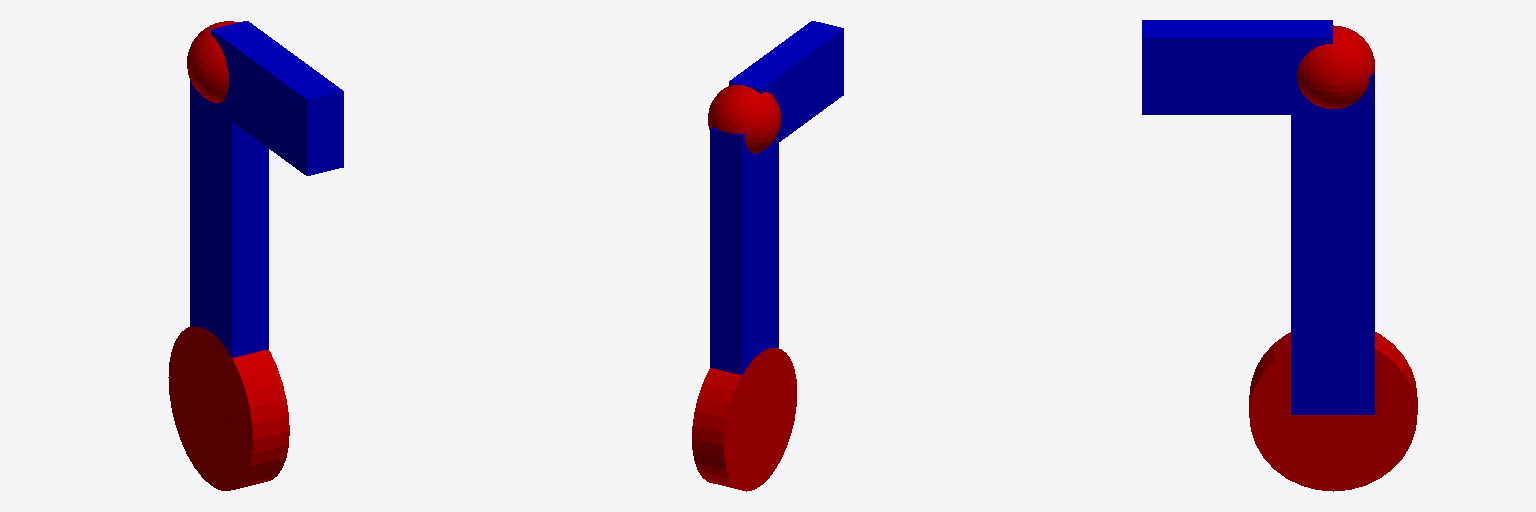
URDF robot description (TwoLinkStruct640138002):
<?xml version="1.0"?>
<robot  name="TwoLinkStruct640138002" >
 <material  name="blue" >
  <color  rgba="0 0 0.8 1.0" />
 </material>
 <material  name="red" >
  <color  rgba="0.8 0 0 1.0" />
 </material>
 <link  name="base_link" >
  <visual >
   <origin  rpy="0 1.5707 0"  xyz="0 0 0" />
   <material  name="red" />
   <geometry >
    <cylinder  length="0.05"  radius="0.1" />
   </geometry>
  </visual>
 </link>
 <joint  type="revolute"  name="joint1" >
  <parent  link="base_link" />
  <child  link="link1" />
  <origin  xyz="0 0 0"  rpy="0 0 0" />
  <axis  xyz="1 0 0" />
 </joint>
 <link  name="link1" >
  <inertial >
   <origin  rpy="0 0 0"  xyz="0 0 0.22218380172906807" />
   <mass  value="0.9672854199965676" />
   <inertia  ixy="0.0"  iyy="0.00040303559166523655"  izz="0.016118406300600983"  ixz="0.0"  ixx="0.016118406300600983"  iyz="0.0" />
  </inertial>
  <visual >
   <origin  rpy="0 0 0"  xyz="0 0 0.22218380172906807" />
   <material  name="blue" />
   <geometry >
    <box  size="0.05 0.1 0.44436760345813614" />
   </geometry>
  </visual>
 </link>
 <joint  type="fixed"  name="joint-joint-1" >
  <parent  link="link1" />
  <child  link="joint-link-1" />
  <origin  xyz="0 0 0.44436760345813614"  rpy="1.5707 0 0" />
  <axis  xyz="1 0 0" />
 </joint>
 <link  name="joint-link-1" >
  <inertial >
   <origin  rpy="0 0 0"  xyz="0 0 0" />
   <mass  value="1.9543338447868708" />
   <inertia  ixy="0"  iyy="0"  izz="0"  ixz="0"  ixx="0"  iyz="0" />
  </inertial>
  <visual >
   <origin  rpy="0 0 0"  xyz="0 0 0" />
   <material  name="red" />
   <geometry >
    <sphere  radius="0.05" />
   </geometry>
  </visual>
 </link>
 <joint  type="revolute"  name="joint2" >
  <parent  link="link1" />
  <child  link="link2" />
  <origin  xyz="0 0 0.44436760345813614"  rpy="1.5707 0 0" />
  <axis  xyz="1 0 0" />
 </joint>
 <link  name="link2" >
  <inertial >
   <origin  rpy="0 0 0"  xyz="0 0 0.11343772173134198" />
   <mass  value="0.9996936147559894" />
   <inertia  ixy="0.0"  iyy="0.00040303559166523655"  izz="0.00435056502181339"  ixz="0.0"  ixx="0.00435056502181339"  iyz="0.0" />
  </inertial>
  <visual >
   <origin  rpy="0 0 0"  xyz="0 0 0.11343772173134198" />
   <material  name="blue" />
   <geometry >
    <box  size="0.05 0.1 0.22687544346268396" />
   </geometry>
  </visual>
 </link>
 <joint  type="fixed"  name="eef_joint" >
  <parent  link="link2" />
  <child  link="eef" />
  <origin  xyz="0 0 0.22687544346268396"  rpy="0 0 0" />
 </joint>
 <link  name="eef" >
  <inertial >
   <origin  rpy="0 0 0"  xyz="0 0 0" />
   <mass  value="1" />
   <inertia  ixy="0"  iyy="0"  izz="0"  ixz="0"  ixx="0"  iyz="0" />
  </inertial>
 </link>
 <transmission  name="motor1" >
  <type  xmltext="SimpleTransmission" >
   SimpleTransmission
  </type>
  <actuator  name="motor1" >
   <mechanicalreduction  xmltext="1" >
    1
   </mechanicalreduction>
  </actuator>
  <joint  name="joint1" />
 </transmission>
 <transmission  name="motor2" >
  <type  xmltext="SimpleTransmission" >
   SimpleTransmission
  </type>
  <actuator  name="motor2" >
   <mechanicalreduction  xmltext="1" >
    1
   </mechanicalreduction>
  </actuator>
  <joint  name="joint2" />
 </transmission>
</robot>

<!-- {'carti': array([-0.1 ,  0.14,  0.85]), 'cartd': array([-0.1 ,  0.32,  1.29]), 'tau_mu': 1.0, 'b0': 0.1198706329342552, 'Km': 3.145855490168839, 'k_velocity': 33.60061041948099, 'tau_max_m': 4.961132123949517, 'omega_max_m': 1026.616516689779, 'gear_ratio': 25.0, 'Kp': 48.70039349760963, 'Kd': 62.18848684160888, 'm_m': 1.9543338447868708, 'l1': 0.44436760345813614, 'l2': 0.22687544346268396, 'k1': 5014.11342110411, 'k2': 153141394.72892022, 'k3': 341911525.3643659}-->

--- Render facts (derived) ---
Views: 3 orthographic renders of the robot side by side, from view 1: azimuth 30°, elevation 25°; view 2: azimuth 150°, elevation 25°; view 3: azimuth 270°, elevation 25°.
Model TwoLinkStruct640138002 with 5 links and 4 joints (2 revolute, 2 fixed), rooted at base_link, posed all joints at 0.
Visible links, largest first — view 1: link1, base_link, link2, joint-link-1; view 2: link1, base_link, link2, joint-link-1; view 3: link1, link2, base_link, joint-link-1.
Boxes of the visible links, <box> form: link1: <box>190,80,268,419</box>; base_link: <box>168,326,289,490</box>; link2: <box>211,21,343,175</box>; joint-link-1: <box>187,21,238,102</box>; link1: <box>710,127,778,374</box>; base_link: <box>692,348,796,491</box>; link2: <box>729,21,843,155</box>; joint-link-1: <box>708,85,780,153</box>; link1: <box>1291,71,1374,414</box>; link2: <box>1142,20,1332,114</box>; base_link: <box>1249,332,1417,491</box>; joint-link-1: <box>1297,25,1374,108</box>.
Bounding box of the posed robot: 0.1 × 0.3269 × 0.5944 m (x, y, z).
Geometry: primitives only (box / cylinder / sphere), no mesh files.
